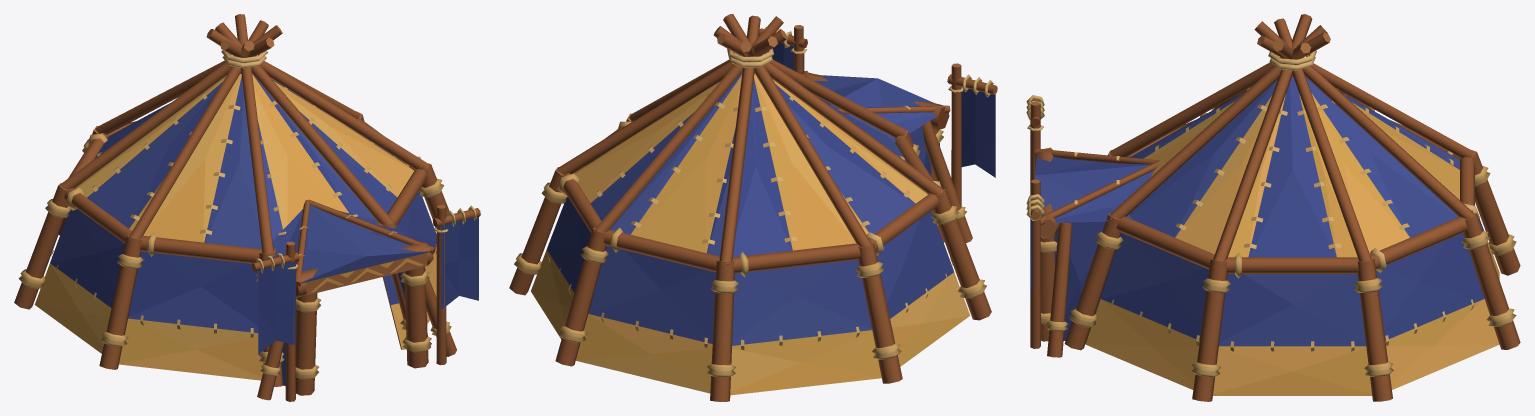
Rendered from cobalt_clan_pavilion.glb.
The picture shows the model from 3 angles, left to right: view 1: azimuth 30°, elevation 25°; view 2: azimuth 150°, elevation 25°; view 3: azimuth 270°, elevation 25°; orthographic projection. The views are drawn at different scales.
Parts seen in each view (by area): view 1: Canvas mesh, Timber mesh, Lashings_and_Stitches mesh; view 2: Canvas mesh, Timber mesh, Lashings_and_Stitches mesh; view 3: Canvas mesh, Timber mesh, Lashings_and_Stitches mesh.
Part boxes in pixels (x1,y1,x2,y2): Canvas mesh: (34,72,478,385); Timber mesh: (14,14,480,401); Lashings_and_Stitches mesh: (18,50,476,379); Canvas mesh: (531,43,995,395); Timber mesh: (509,14,997,401); Lashings_and_Stitches mesh: (514,27,993,377); Canvas mesh: (1030,75,1499,395); Timber mesh: (1030,14,1520,401); Lashings_and_Stitches mesh: (1026,50,1516,377).
Bounding box in the file's own units: 6.93 × 4.76 × 7.52.
